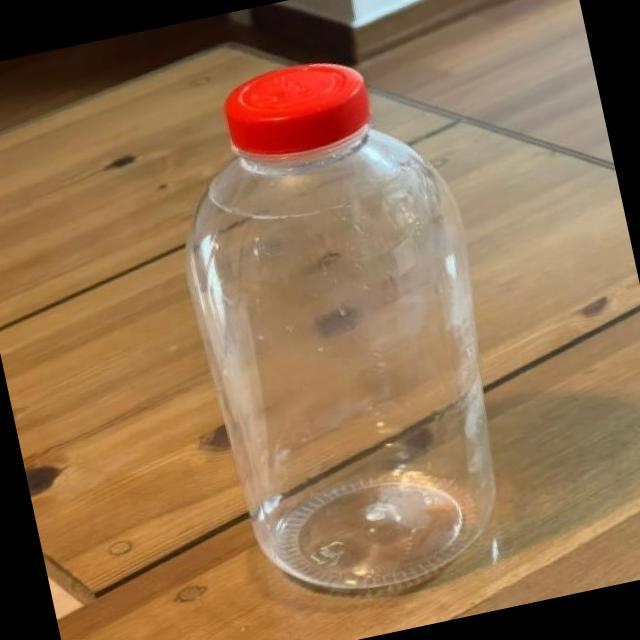BotolPlastik: (145, 35, 536, 622)
